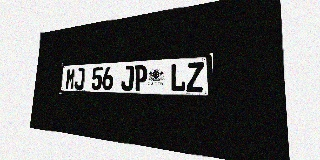5: (91, 67, 103, 90)
6: (102, 66, 114, 90)
J: (121, 65, 134, 91), (74, 68, 85, 90)
L: (170, 63, 186, 92)
M: (65, 68, 76, 89)
P: (133, 65, 147, 91)
Z: (186, 62, 204, 92)
